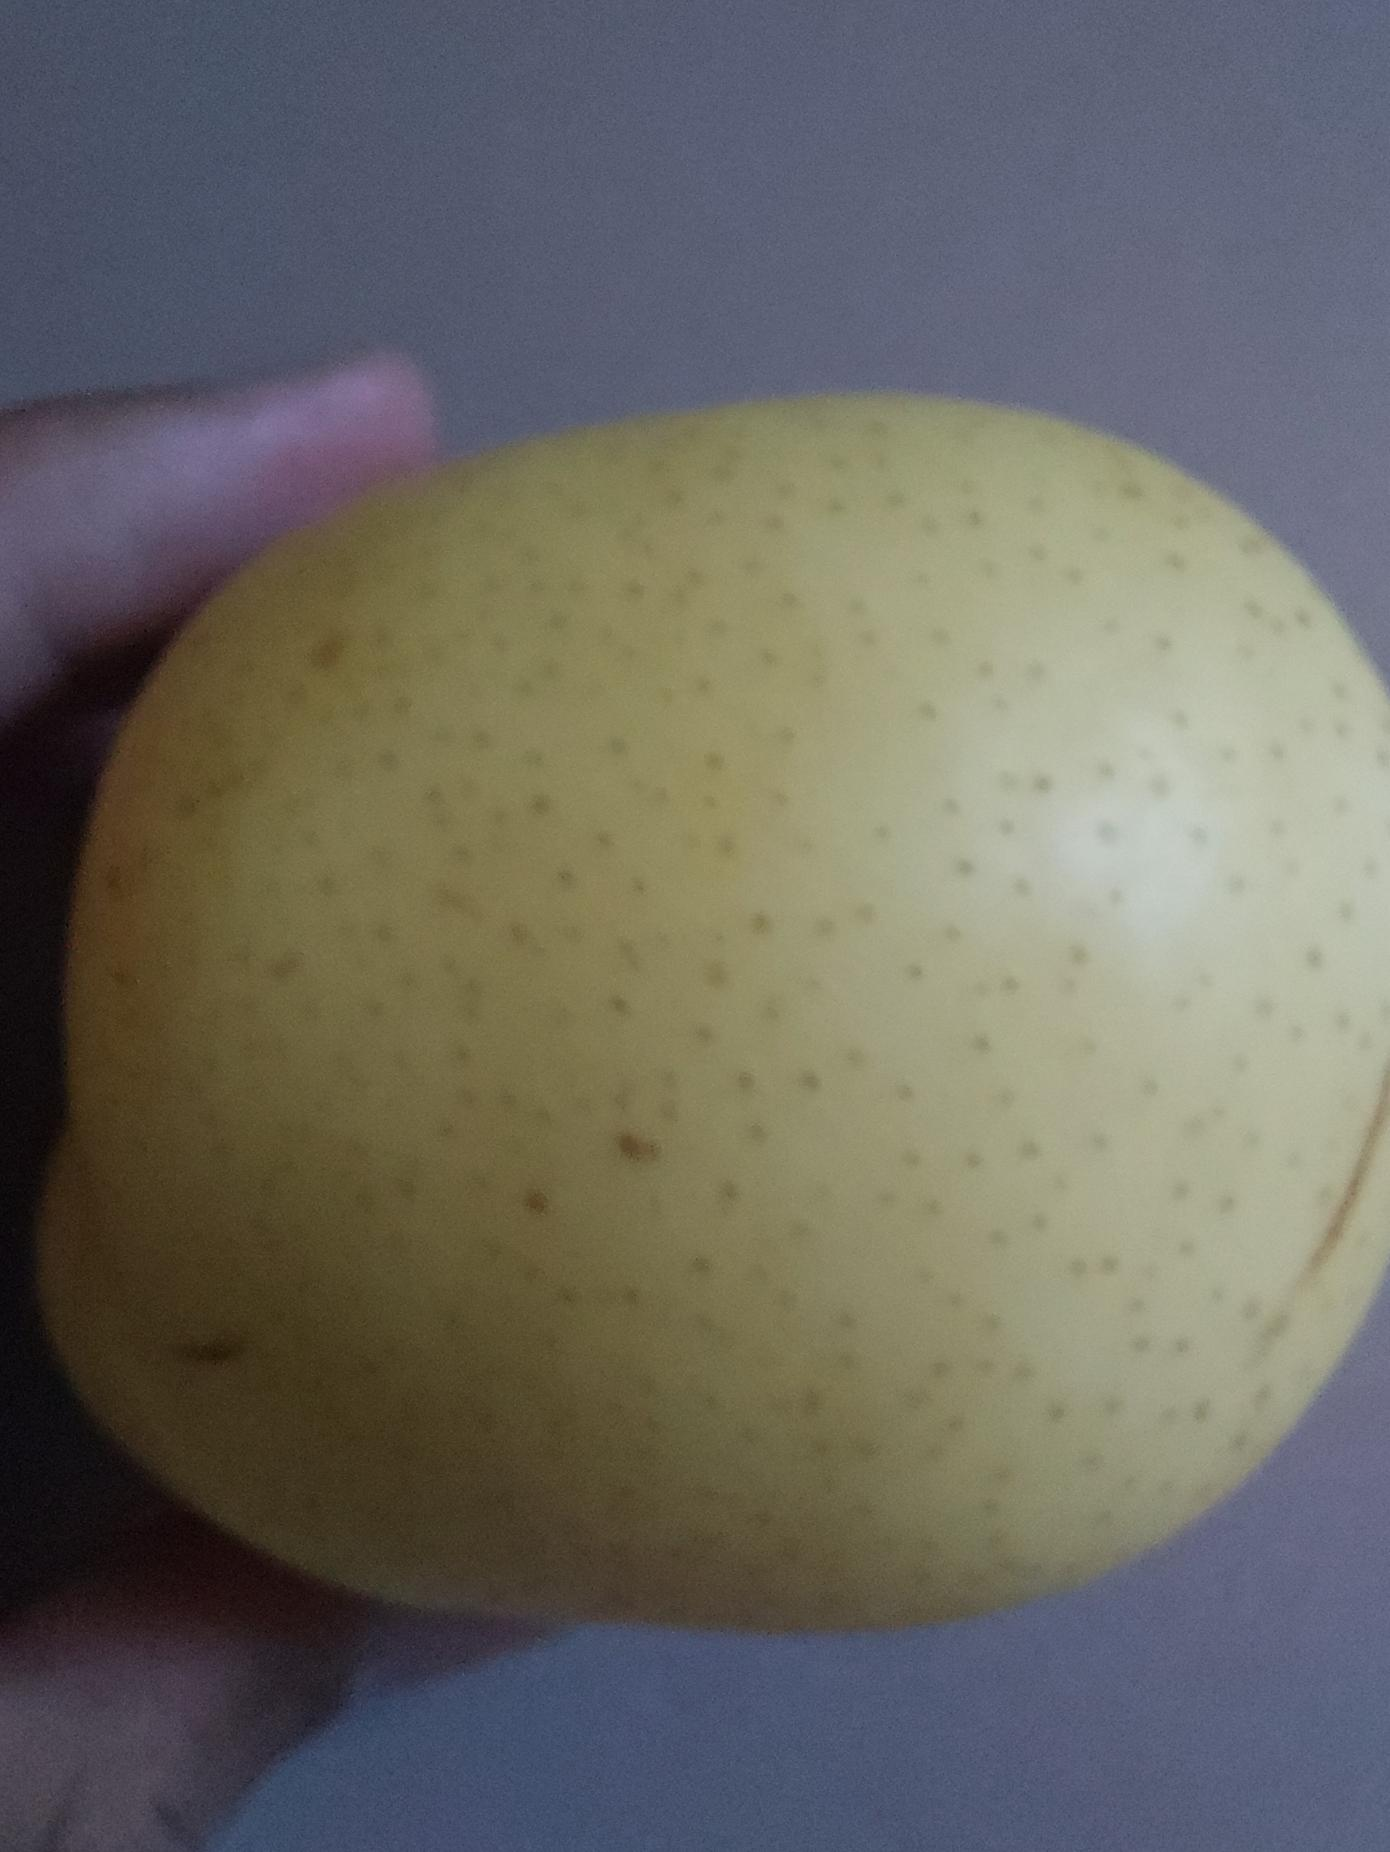Good Pear: (240, 489, 1390, 1621)
